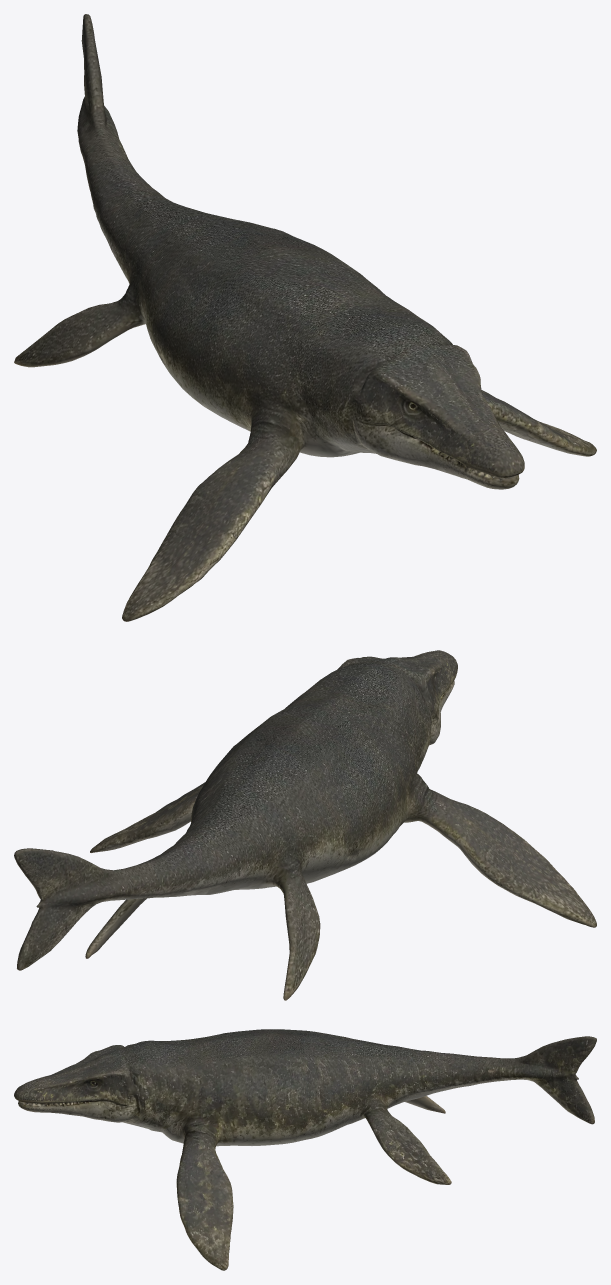
File: mosasaurus.glb
The picture shows the model from 3 angles, top to bottom: view 1: azimuth 30°, elevation 25°; view 2: azimuth 150°, elevation 25°; view 3: azimuth 270°, elevation 25°; orthographic projection. The views are drawn at different scales.
Parts seen in each view (by area): view 1: dino; view 2: dino; view 3: dino.
Part boxes in pixels (box(x1,y1,x2,y2)): dino: box(14, 14, 596, 621); dino: box(14, 650, 596, 1000); dino: box(14, 1029, 596, 1270).
Bounding box in the file's own units: 7.86 × 3.83 × 12.
1 material, 1 textured.
